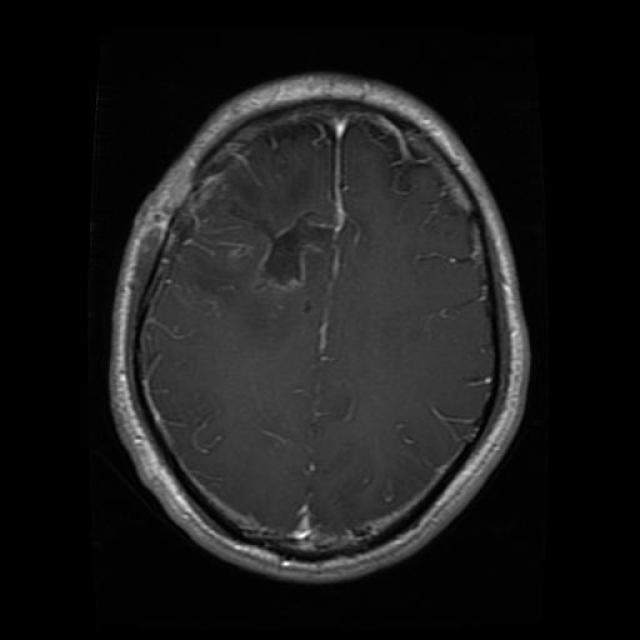glioma: (232, 192, 334, 292)
